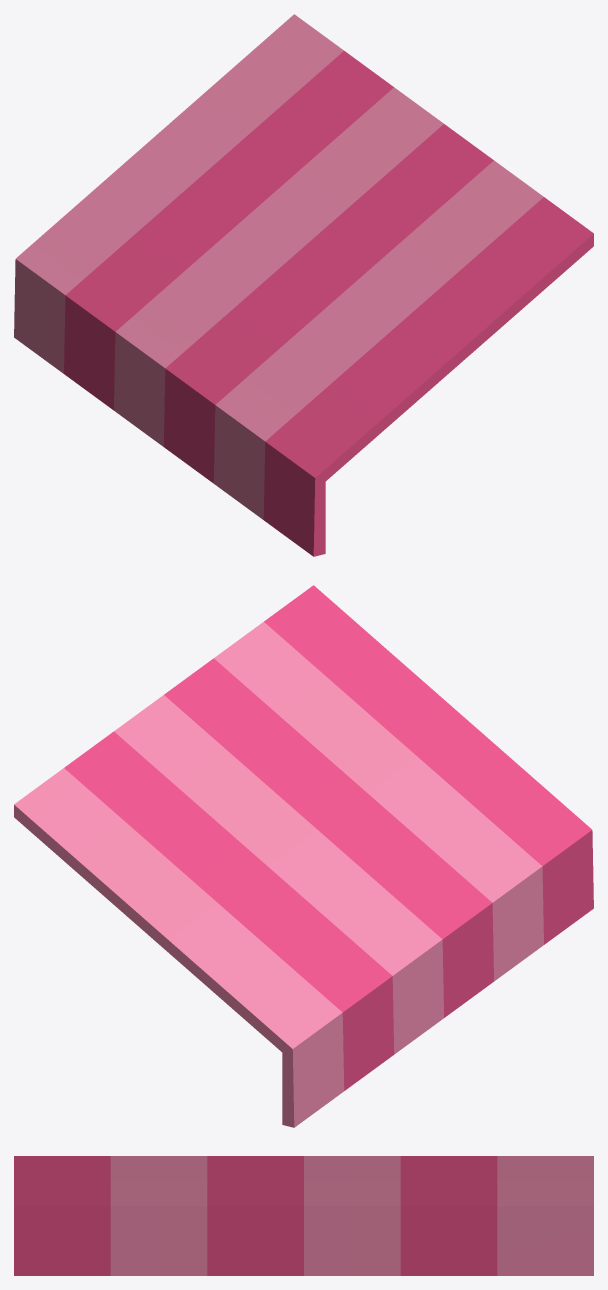
The model's file is Awning_2_C.glb.
3 renders of one model, top to bottom at view 1: azimuth 30°, elevation 25°; view 2: azimuth 150°, elevation 25°; view 3: azimuth 270°, elevation 25°, orthographic. The views are drawn at different scales.
Visible parts, largest first — view 1: Awning_2_C; view 2: Awning_2_C; view 3: Awning_2_C.
Part boxes in pixels (left/top/right/bottom): Awning_2_C: left=14, top=14, right=593, bottom=556; Awning_2_C: left=14, top=585, right=593, bottom=1127; Awning_2_C: left=14, top=1156, right=593, bottom=1275.
Size of the model in its own units: 1.11 by 0.9645 by 2.05.
2 materials, 2 textured.
